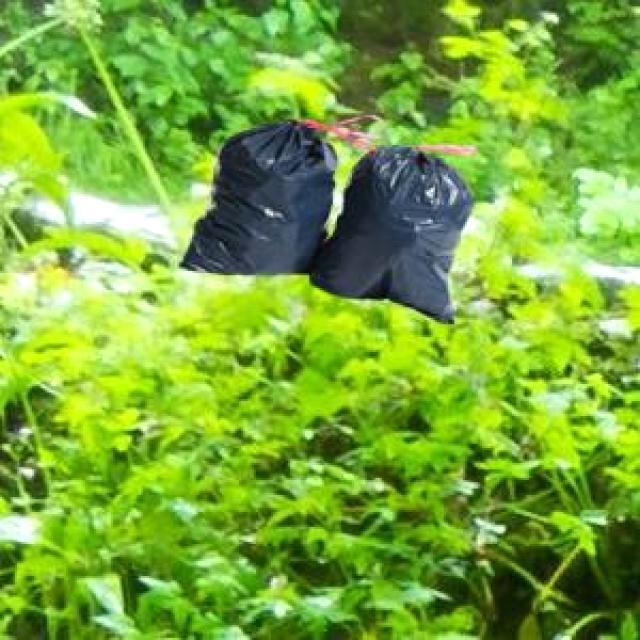Garbage_Bag: (177, 116, 474, 321)
